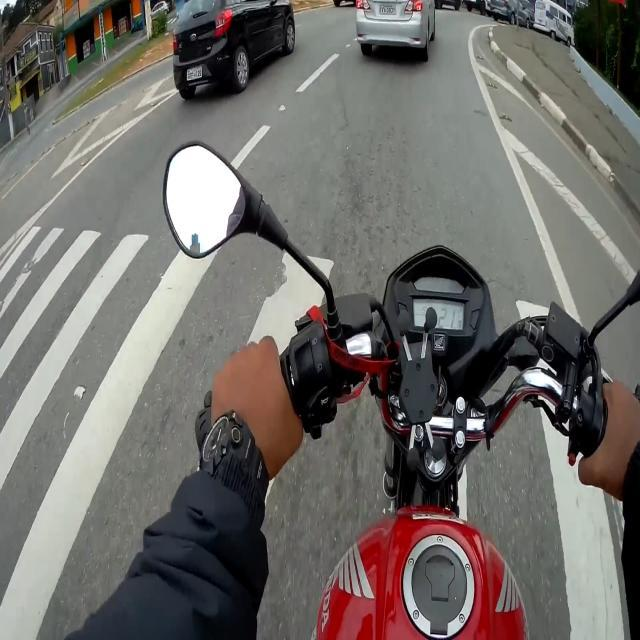Placa_mercosul_carro: (378, 2, 398, 17), (186, 65, 203, 82)
